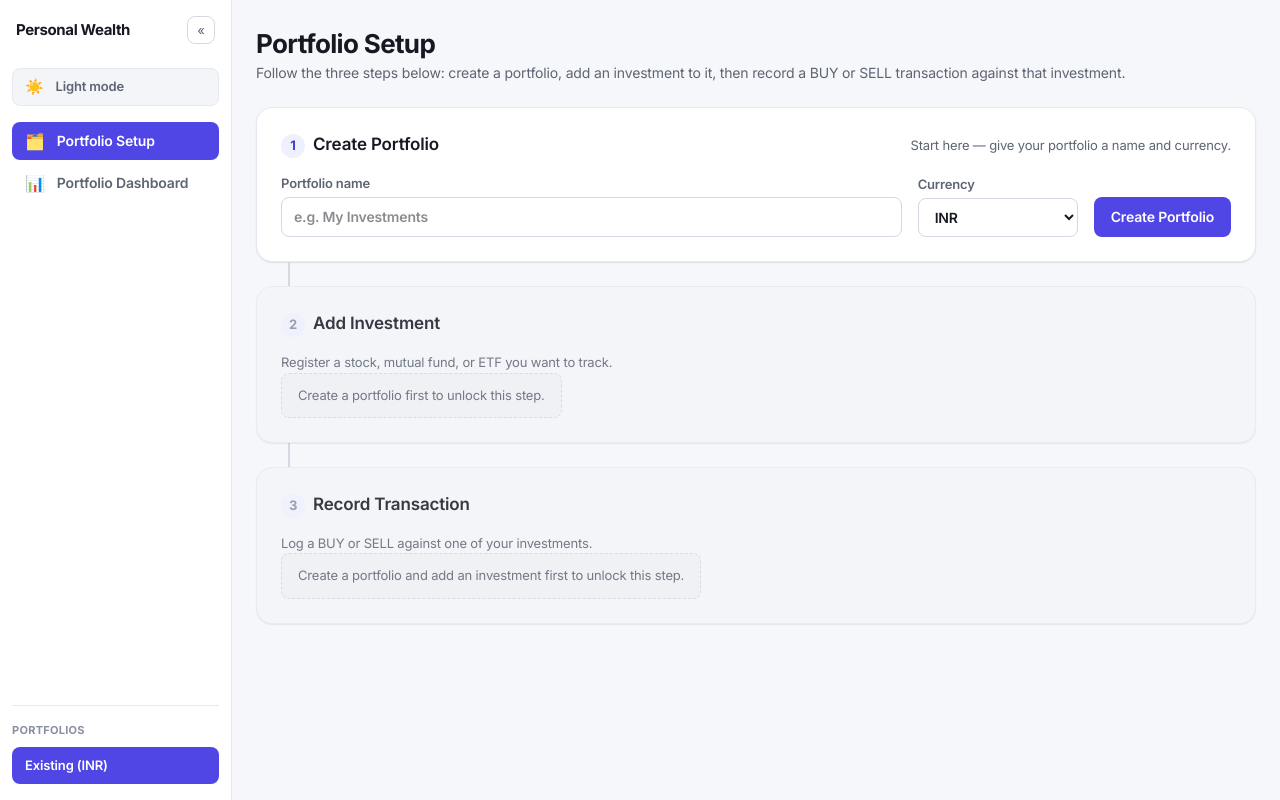
Test: App › refreshes the switcher list after a new portfolio is created, without a manual reload
Check: the text "Existing (INR)" is shown, box [25, 756, 108, 775]
In the field labelled "Portfolio name": (591,217) [281, 197, 902, 237], type "Brand New"
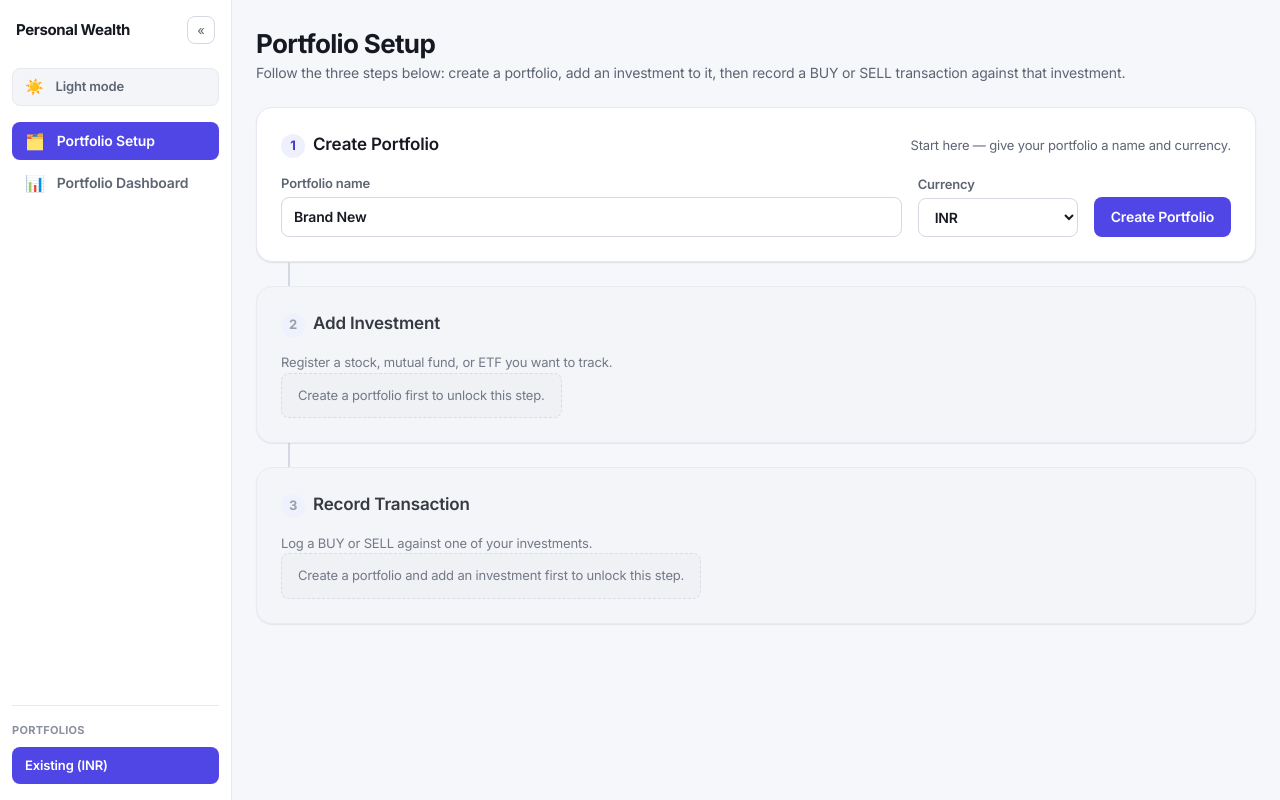
Click the button "Create Portfolio": (1162,217) [1094, 197, 1231, 237]
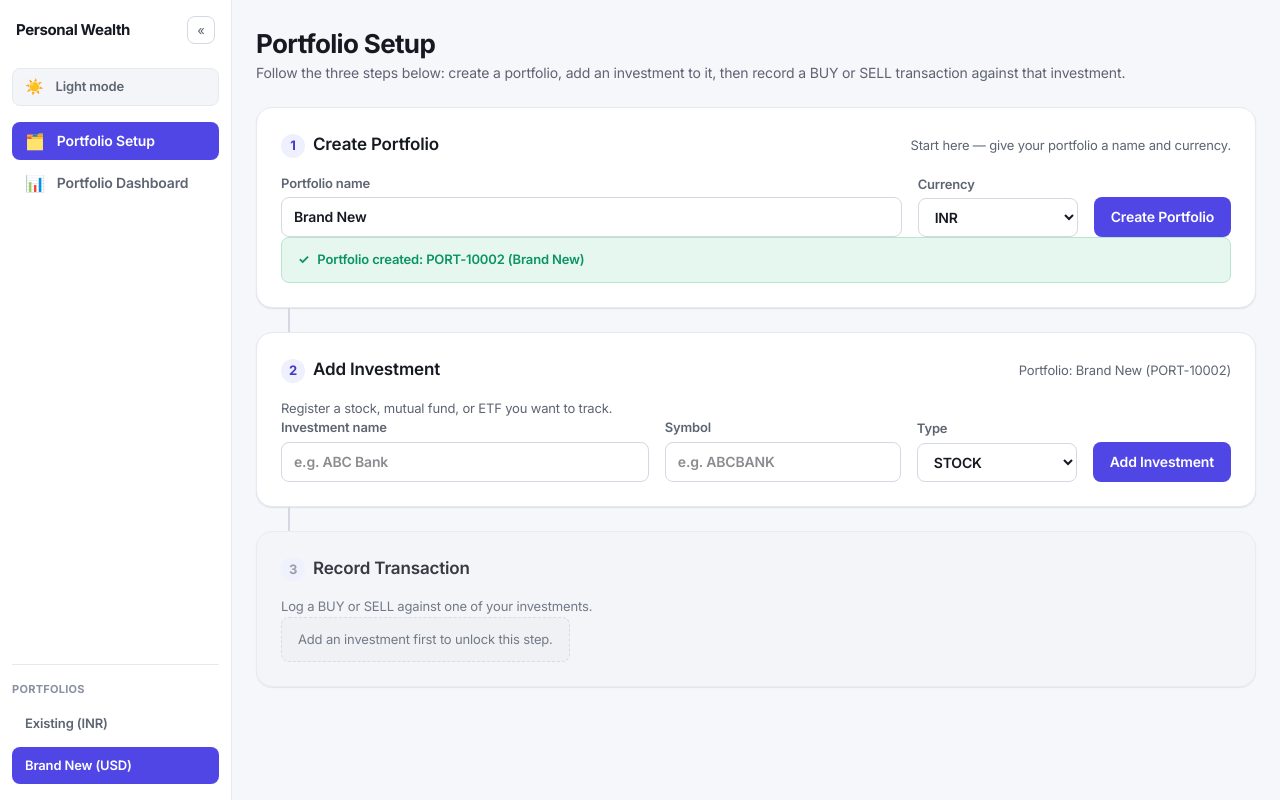
Check: the button "Brand New (USD)" is shown, box [12, 746, 219, 784]
